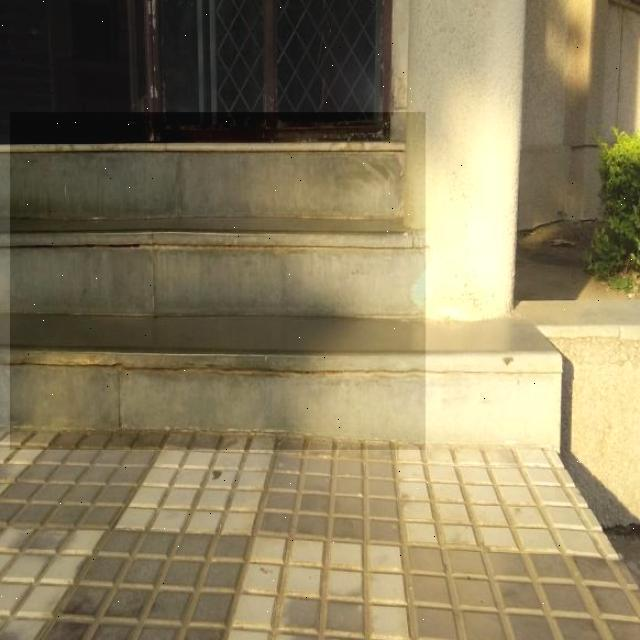stair: (10, 112, 426, 450)
